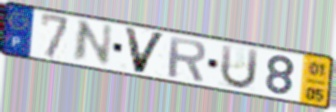7: (39, 11, 71, 61)
8: (265, 54, 296, 96)
N: (70, 19, 116, 67)
R: (167, 34, 209, 84)
U: (218, 43, 261, 91)
V: (122, 25, 169, 75)
